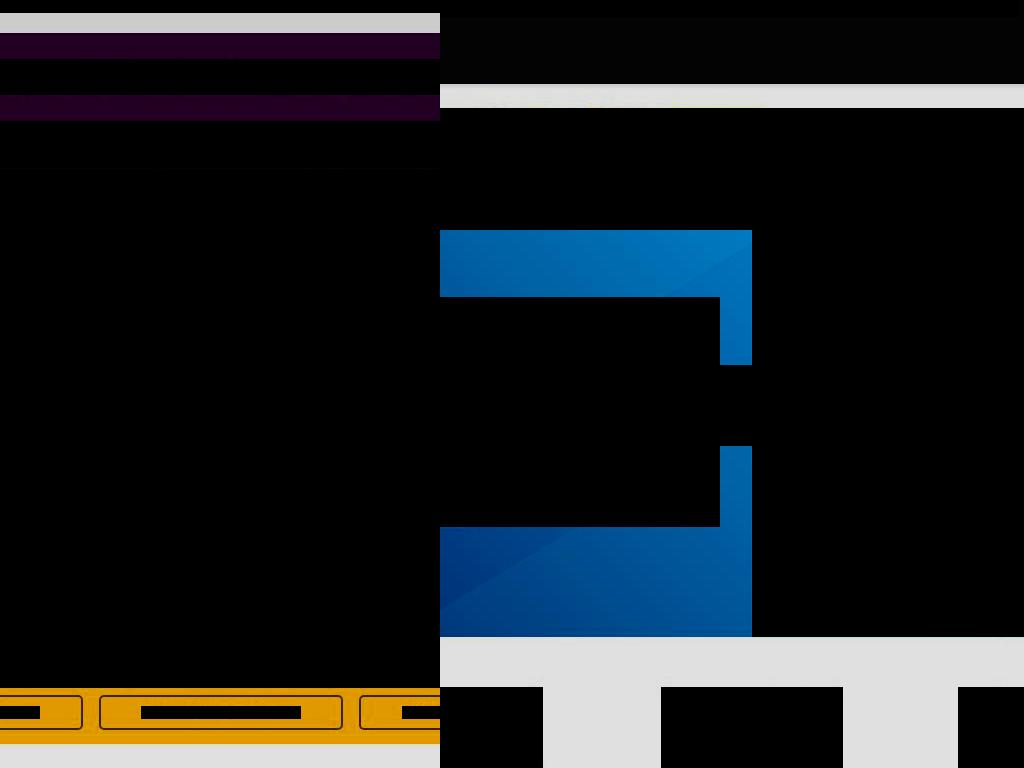button: (0, 230, 440, 523), (440, 108, 1024, 230), (440, 481, 465, 527), (861, 211, 920, 230)
heading: (440, 297, 720, 527), (440, 365, 818, 446), (440, 0, 1019, 17), (777, 118, 972, 147)
iframe: (752, 230, 1024, 637)
image: (0, 230, 440, 688), (0, 169, 440, 230), (661, 687, 843, 768), (440, 687, 543, 768), (0, 169, 102, 230), (0, 0, 440, 13), (958, 687, 1024, 768), (52, 659, 65, 672), (79, 659, 92, 672)
link: (777, 157, 1024, 230), (0, 59, 440, 95), (141, 706, 301, 719), (161, 198, 254, 220), (758, 212, 844, 230), (284, 198, 321, 220), (351, 198, 388, 220), (0, 706, 40, 719), (402, 706, 440, 719)
text: (440, 212, 759, 230), (0, 134, 69, 156), (99, 134, 147, 156), (843, 212, 852, 230)
